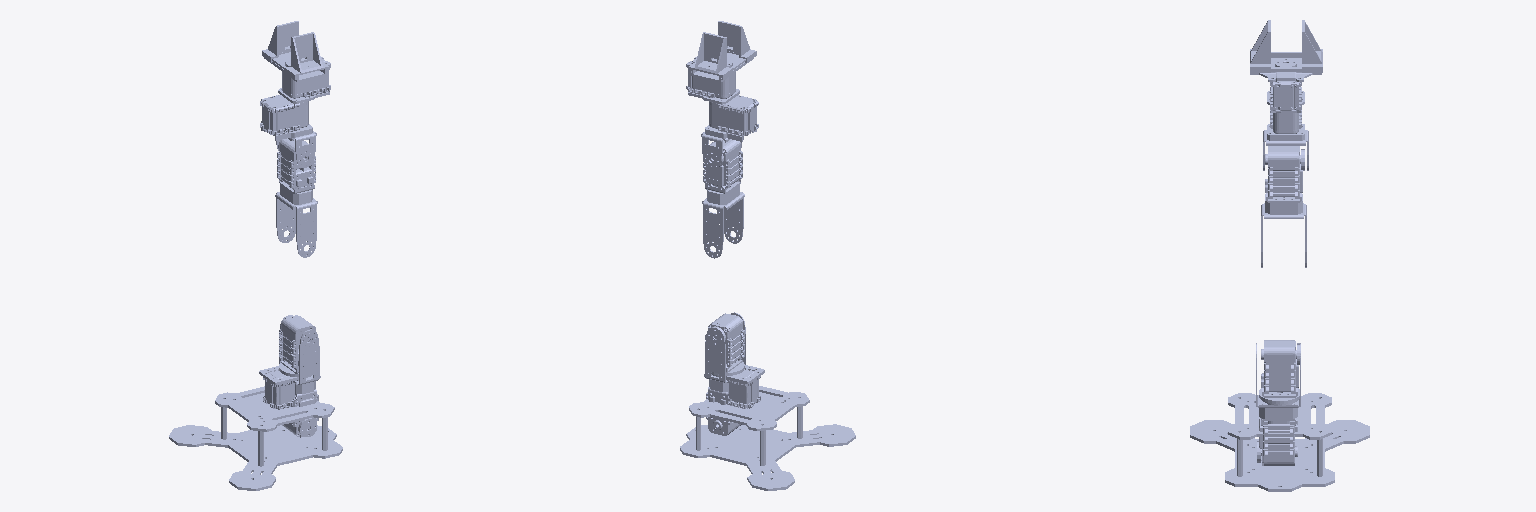
URDF robot description (phantomx_pincher_robot_arm_edited):
<robot
  name="phantomx_pincher_robot_arm_edited">
  <link
    name="base_link">
    <inertial>
      <origin
        xyz="-0.061828 0.039179 0.29608"
        rpy="0 0 0" />
      <mass
        value="0.12375" />
      <inertia
        ixx="0.00023912"
        ixy="-4.8869E-05"
        ixz="-3.6962E-08"
        iyy="0.00026087"
        iyz="6.5556E-08"
        izz="0.00027442" />
    </inertial>
    <visual>
      <origin
        xyz="0 0 0"
        rpy="0 0 0" />
      <geometry>
        <mesh
          filename="package://phantomx_pincher_robot_arm_edited/meshes/base_link.STL" />
      </geometry>
      <material
        name="">
        <color
          rgba="0.79216 0.81961 0.93333 1" />
      </material>
    </visual>
    <collision>
      <origin
        xyz="0 0 0"
        rpy="0 0 0" />
      <geometry>
        <mesh
          filename="package://phantomx_pincher_robot_arm_edited/meshes/base_link.STL" />
      </geometry>
    </collision>
  </link>
  <link
    name="arm_shoulder_pan_link">
    <inertial>
      <origin
        xyz="4.6716E-05 0.0010278 0.027716"
        rpy="0 0 0" />
      <mass
        value="0.043526" />
      <inertia
        ixx="1.3502E-05"
        ixy="-1.1957E-10"
        ixz="1.2676E-08"
        iyy="1.1436E-05"
        iyz="-1.3637E-07"
        izz="7.0195E-06" />
    </inertial>
    <visual>
      <origin
        xyz="0 0 0"
        rpy="0 0 0" />
      <geometry>
        <mesh
          filename="package://phantomx_pincher_robot_arm_edited/meshes/arm_shoulder_pan_link.STL" />
      </geometry>
      <material
        name="">
        <color
          rgba="0.79216 0.81961 0.93333 1" />
      </material>
    </visual>
    <collision>
      <origin
        xyz="0 0 0"
        rpy="0 0 0" />
      <geometry>
        <mesh
          filename="package://phantomx_pincher_robot_arm_edited/meshes/arm_shoulder_pan_link.STL" />
      </geometry>
    </collision>
  </link>
  <joint
    name="arm_shoulder_pan_joint"
    type="continuous">
    <origin
      xyz="-0.034767 -0.2961 0.089775"
      rpy="-6.123E-17 0 0" />
    <parent
      link="base_link" />
    <child
      link="arm_shoulder_pan_link" />
    <axis
      xyz="0 0 1" />
  </joint>
  <link
    name="arm_shoulder_lift_link">
    <inertial>
      <origin
        xyz="1.6294E-05 0.0027459 0.080963"
        rpy="0 0 0" />
      <mass
        value="0.059999" />
      <inertia
        ixx="4.6042E-05"
        ixy="-1.4659E-09"
        ixz="-6.036E-09"
        iyy="4.1352E-05"
        iyz="-6.8503E-07"
        izz="1.1532E-05" />
    </inertial>
    <visual>
      <origin
        xyz="0 0 0"
        rpy="0 0 0" />
      <geometry>
        <mesh
          filename="package://phantomx_pincher_robot_arm_edited/meshes/arm_shoulder_lift_link.STL" />
      </geometry>
      <material
        name="">
        <color
          rgba="0.79216 0.81961 0.93333 1" />
      </material>
    </visual>
    <collision>
      <origin
        xyz="0 0 0"
        rpy="0 0 0" />
      <geometry>
        <mesh
          filename="package://phantomx_pincher_robot_arm_edited/meshes/arm_shoulder_lift_link.STL" />
      </geometry>
    </collision>
  </link>
  <joint
    name="arm_shoulder_lift_joint"
    type="continuous">
    <origin
      xyz="0 0 0.0415"
      rpy="0 0 0" />
    <parent
      link="arm_shoulder_pan_link" />
    <child
      link="arm_shoulder_lift_link" />
    <axis
      xyz="0 -1 0" />
  </joint>
  <link
    name="arm_elbow_flex_link">
    <inertial>
      <origin
        xyz="1.6294E-05 0.0047459 0.080963"
        rpy="0 0 0" />
      <mass
        value="0.059999" />
      <inertia
        ixx="4.6042E-05"
        ixy="-1.4659E-09"
        ixz="-6.036E-09"
        iyy="4.1352E-05"
        iyz="-6.8503E-07"
        izz="1.1532E-05" />
    </inertial>
    <visual>
      <origin
        xyz="0 0 0"
        rpy="0 0 0" />
      <geometry>
        <mesh
          filename="package://phantomx_pincher_robot_arm_edited/meshes/arm_elbow_flex_link.STL" />
      </geometry>
      <material
        name="">
        <color
          rgba="0.79216 0.81961 0.93333 1" />
      </material>
    </visual>
    <collision>
      <origin
        xyz="0 0 0"
        rpy="0 0 0" />
      <geometry>
        <mesh
          filename="package://phantomx_pincher_robot_arm_edited/meshes/arm_elbow_flex_link.STL" />
      </geometry>
    </collision>
  </link>
  <joint
    name="arm_elbow_flex_joint"
    type="continuous">
    <origin
      xyz="0 0 0.107"
      rpy="2.7756E-15 0 0" />
    <parent
      link="arm_shoulder_lift_link" />
    <child
      link="arm_elbow_flex_link" />
    <axis
      xyz="0 -1 0" />
  </joint>
  <link
    name="arm_wrist_flex_link">
    <inertial>
      <origin
        xyz="-0.010776 0.006036 0.043911"
        rpy="0 0 0" />
      <mass
        value="0.051345" />
      <inertia
        ixx="1.4469E-05"
        ixy="1.5248E-08"
        ixz="1.8716E-06"
        iyy="1.9641E-05"
        iyz="-1.4162E-09"
        izz="1.4356E-05" />
    </inertial>
    <visual>
      <origin
        xyz="0 0 0"
        rpy="0 0 0" />
      <geometry>
        <mesh
          filename="package://phantomx_pincher_robot_arm_edited/meshes/arm_wrist_flex_link.STL" />
      </geometry>
      <material
        name="">
        <color
          rgba="0.79216 0.81961 0.93333 1" />
      </material>
    </visual>
    <collision>
      <origin
        xyz="0 0 0"
        rpy="0 0 0" />
      <geometry>
        <mesh
          filename="package://phantomx_pincher_robot_arm_edited/meshes/arm_wrist_flex_link.STL" />
      </geometry>
    </collision>
  </link>
  <joint
    name="arm_wrist_flex_joint"
    type="continuous">
    <origin
      xyz="0 0 0.107"
      rpy="-2.7756E-15 0 0" />
    <parent
      link="arm_elbow_flex_link" />
    <child
      link="arm_wrist_flex_link" />
    <axis
      xyz="0 -1 0" />
  </joint>
  <link
    name="arm_wrist_revol_link">
    <inertial>
      <origin
        xyz="-0.0108034643995503 3.0040816245358E-05 0.0211998773417284"
        rpy="0 0 0" />
      <mass
        value="0.0518984073943084" />
      <inertia
        ixx="1.34700180494404E-05"
        ixy="1.72078044521259E-08"
        ixz="-8.87346267942534E-07"
        iyy="1.80627817124038E-05"
        iyz="1.00091470877893E-09"
        izz="1.68525403850811E-05" />
    </inertial>
    <visual>
      <origin
        xyz="0 0 0"
        rpy="0 0 0" />
      <geometry>
        <mesh
          filename="package://phantomx_pincher_robot_arm_edited/meshes/arm_wrist_revol_link.STL" />
      </geometry>
      <material
        name="">
        <color
          rgba="0.792156862745098 0.819607843137255 0.933333333333333 1" />
      </material>
    </visual>
    <collision>
      <origin
        xyz="0 0 0"
        rpy="0 0 0" />
      <geometry>
        <mesh
          filename="package://phantomx_pincher_robot_arm_edited/meshes/arm_wrist_revol_link.STL" />
      </geometry>
    </collision>
  </link>
  <joint
    name="arm_wrist_revol_joint"
    type="continuous">
    <origin
      xyz="-0.00025427 0.006 0.06645"
      rpy="0 -1.1102E-14 3.1416" />
    <parent
      link="arm_wrist_flex_link" />
    <child
      link="arm_wrist_revol_link" />
    <axis
      xyz="0 0 1" />
  </joint>
  <link
    name="left_gripper_link">
    <inertial>
      <origin
        xyz="4.94375373971678E-13 -0.00740598995443981 0.0112693127189871"
        rpy="0 0 0" />
      <mass
        value="0.00650667742243688" />
      <inertia
        ixx="1.06306547840632E-06"
        ixy="-4.08934939007386E-17"
        ixz="1.74854685271235E-17"
        iyy="1.67561330218171E-06"
        iyz="-2.61875963021117E-07"
        izz="1.09598567531698E-06" />
    </inertial>
    <visual>
      <origin
        xyz="0 0 0"
        rpy="0 0 0" />
      <geometry>
        <mesh
          filename="package://phantomx_pincher_robot_arm_edited/meshes/left_gripper_link.STL" />
      </geometry>
      <material
        name="">
        <color
          rgba="0.792156862745098 0.819607843137255 0.933333333333333 1" />
      </material>
    </visual>
    <collision>
      <origin
        xyz="0 0 0"
        rpy="0 0 0" />
      <geometry>
        <mesh
          filename="package://phantomx_pincher_robot_arm_edited/meshes/left_gripper_link.STL" />
      </geometry>
    </collision>
  </link>
  <joint
    name="left_gripper_joint"
    type="prismatic">
    <origin
      xyz="0.00015 -0.015611 0.042144"
      rpy="-5.5511E-15 0 6.163E-29" />
    <parent
      link="arm_wrist_revol_link" />
    <child
      link="left_gripper_link" />
    <axis
      xyz="0 1 0" />
    <limit
      effort="0"
      velocity="0" />
  </joint>
  <link
    name="right_gripper_link">
    <inertial>
      <origin
        xyz="4.94437824016813E-13 -0.00740598995443975 0.011269312718987"
        rpy="0 0 0" />
      <mass
        value="0.00650667742243691" />
      <inertia
        ixx="1.06306547840632E-06"
        ixy="-4.08970086459739E-17"
        ixz="1.74825559213525E-17"
        iyy="1.67561330218171E-06"
        iyz="-2.61875963021119E-07"
        izz="1.09598567531698E-06" />
    </inertial>
    <visual>
      <origin
        xyz="0 0 0"
        rpy="0 0 0" />
      <geometry>
        <mesh
          filename="package://phantomx_pincher_robot_arm_edited/meshes/right_gripper_link.STL" />
      </geometry>
      <material
        name="">
        <color
          rgba="0.792156862745098 0.819607843137255 0.933333333333333 1" />
      </material>
    </visual>
    <collision>
      <origin
        xyz="0 0 0"
        rpy="0 0 0" />
      <geometry>
        <mesh
          filename="package://phantomx_pincher_robot_arm_edited/meshes/right_gripper_link.STL" />
      </geometry>
    </collision>
  </link>
  <joint
    name="right_gripper_joint"
    type="prismatic">
    <origin
      xyz="0.00015 0.015117 0.042144"
      rpy="0 -1.1102E-14 3.1416" />
    <parent
      link="arm_wrist_revol_link" />
    <child
      link="right_gripper_link" />
    <axis
      xyz="0 -1 0" />
    <limit
      effort="0"
      velocity="0" />
  </joint>
</robot>

--- What the picture shows (computed from the rendered views, not written in the file) ---
3 views of the same robot in one strip: view 1: azimuth 30°, elevation 25°; view 2: azimuth 150°, elevation 25°; view 3: azimuth 270°, elevation 25° (orthographic).
Robot: phantomx_pincher_robot_arm_edited — 8 links, 7 joints (5 continuous, 2 prismatic); root link base_link; default pose: every joint at zero.
Visible links, largest first — view 1: base_link, arm_elbow_flex_link, arm_wrist_flex_link, arm_shoulder_lift_link, arm_wrist_revol_link, arm_shoulder_pan_link, right_gripper_link, left_gripper_link; view 2: base_link, arm_elbow_flex_link, arm_wrist_flex_link, arm_shoulder_lift_link, arm_wrist_revol_link, left_gripper_link, arm_shoulder_pan_link, right_gripper_link; view 3: base_link, arm_elbow_flex_link, arm_shoulder_lift_link, arm_shoulder_pan_link, arm_wrist_revol_link, arm_wrist_flex_link, right_gripper_link, left_gripper_link.
Boxes of the visible links, x1=… form: base_link: x1=169, y1=363, x2=342, y2=490; arm_elbow_flex_link: x1=275, y1=138, x2=317, y2=257; arm_wrist_flex_link: x1=260, y1=95, x2=316, y2=167; arm_shoulder_lift_link: x1=279, y1=315, x2=320, y2=437; arm_wrist_revol_link: x1=264, y1=52, x2=330, y2=103; arm_shoulder_pan_link: x1=279, y1=315, x2=315, y2=373; right_gripper_link: x1=285, y1=32, x2=328, y2=79; left_gripper_link: x1=262, y1=21, x2=298, y2=62; base_link: x1=680, y1=362, x2=855, y2=490; arm_elbow_flex_link: x1=702, y1=139, x2=744, y2=258; arm_wrist_flex_link: x1=701, y1=95, x2=758, y2=168; arm_shoulder_lift_link: x1=704, y1=312, x2=745, y2=435; arm_wrist_revol_link: x1=686, y1=53, x2=753, y2=104; left_gripper_link: x1=688, y1=32, x2=732, y2=79; arm_shoulder_pan_link: x1=705, y1=313, x2=744, y2=372; right_gripper_link: x1=718, y1=21, x2=756, y2=62; base_link: x1=1190, y1=388, x2=1369, y2=491; arm_elbow_flex_link: x1=1261, y1=146, x2=1306, y2=267; arm_shoulder_lift_link: x1=1256, y1=343, x2=1300, y2=465; arm_shoulder_pan_link: x1=1261, y1=340, x2=1300, y2=397; arm_wrist_revol_link: x1=1250, y1=52, x2=1321, y2=112; arm_wrist_flex_link: x1=1263, y1=87, x2=1308, y2=170; right_gripper_link: x1=1250, y1=20, x2=1270, y2=72; left_gripper_link: x1=1302, y1=20, x2=1322, y2=72.
Size in the robot's own frame: 0.161 by 0.1792 by 0.496 metres.
Meshes: 8 distinct files referenced, 8 mesh visuals loaded (8 binary STL).